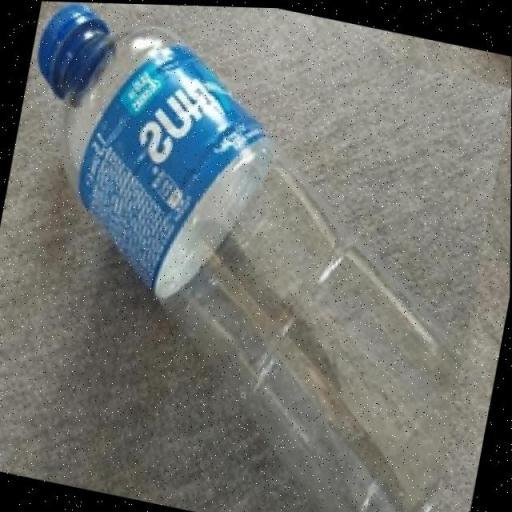plastic: (37, 2, 462, 512)
